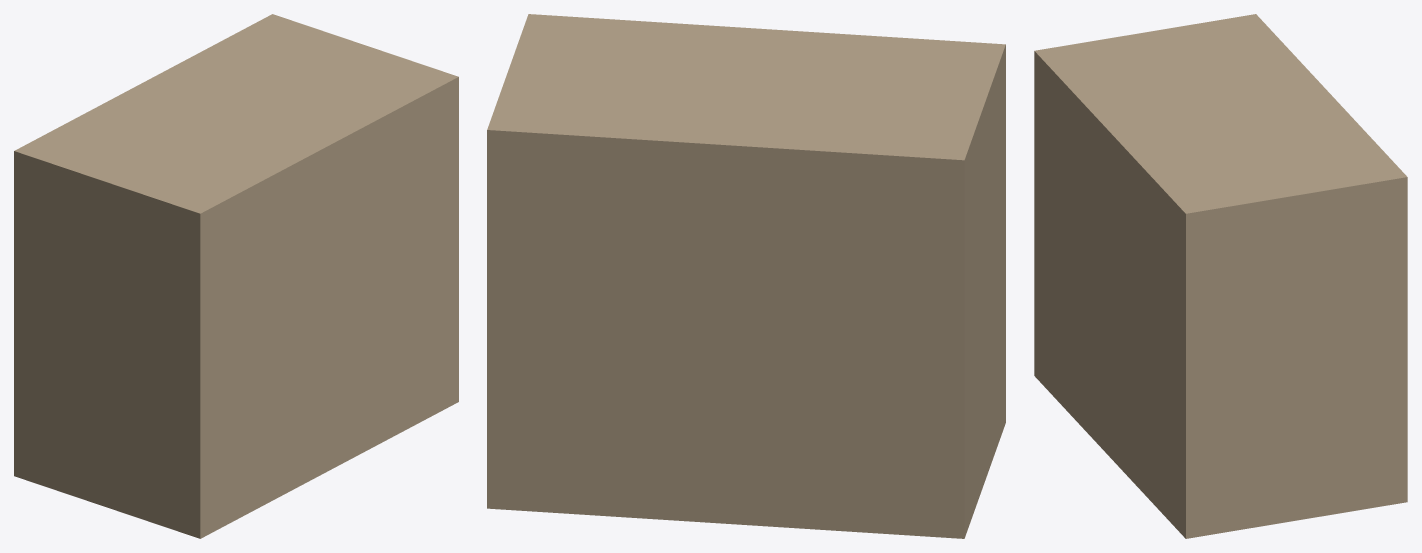
File: bld_106415223.dae
3 renders of one model, left to right at view 1: azimuth 30°, elevation 25°; view 2: azimuth 150°, elevation 25°; view 3: azimuth 270°, elevation 25°, orthographic. The views are drawn at different scales.
Parts seen in each view (by area): view 1: bld_106415223; view 2: bld_106415223; view 3: bld_106415223.
Boxes of the visible parts, x1,y1,x2,y2 form: bld_106415223: [14, 14, 458, 538]; bld_106415223: [487, 14, 1005, 538]; bld_106415223: [1034, 14, 1407, 538].
Bounding box in the file's own units: 10.54 × 8.32 × 8.
